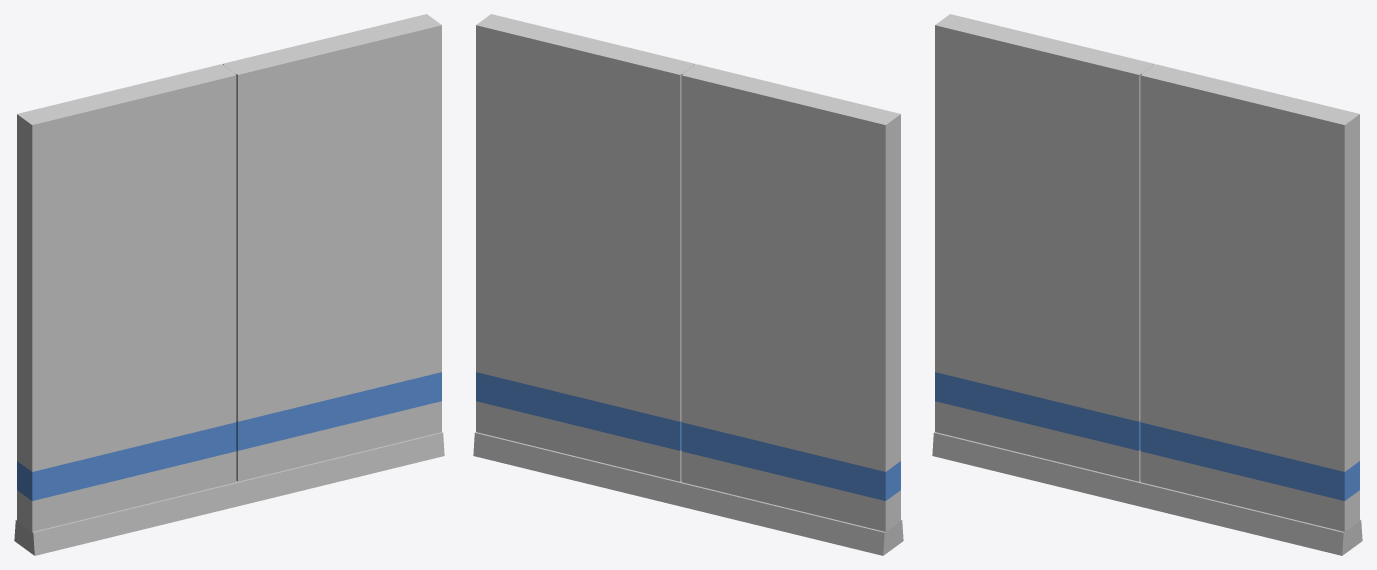
The model's file is WallTest.fbx.
3 views of the same model, side by side, from view 1: azimuth 30°, elevation 25°; view 2: azimuth 150°, elevation 25°; view 3: azimuth 330°, elevation 25° (orthographic).
Parts seen in each view (by area): view 1: Cube.001; view 2: Cube.001; view 3: Cube.001.
Boxes of the visible parts, left/top/right/bottom form: Cube.001: left=14, top=14, right=444, bottom=555; Cube.001: left=473, top=14, right=903, bottom=555; Cube.001: left=932, top=14, right=1362, bottom=555.
Size of the model in its own units: 800 by 800 by 69.07.
